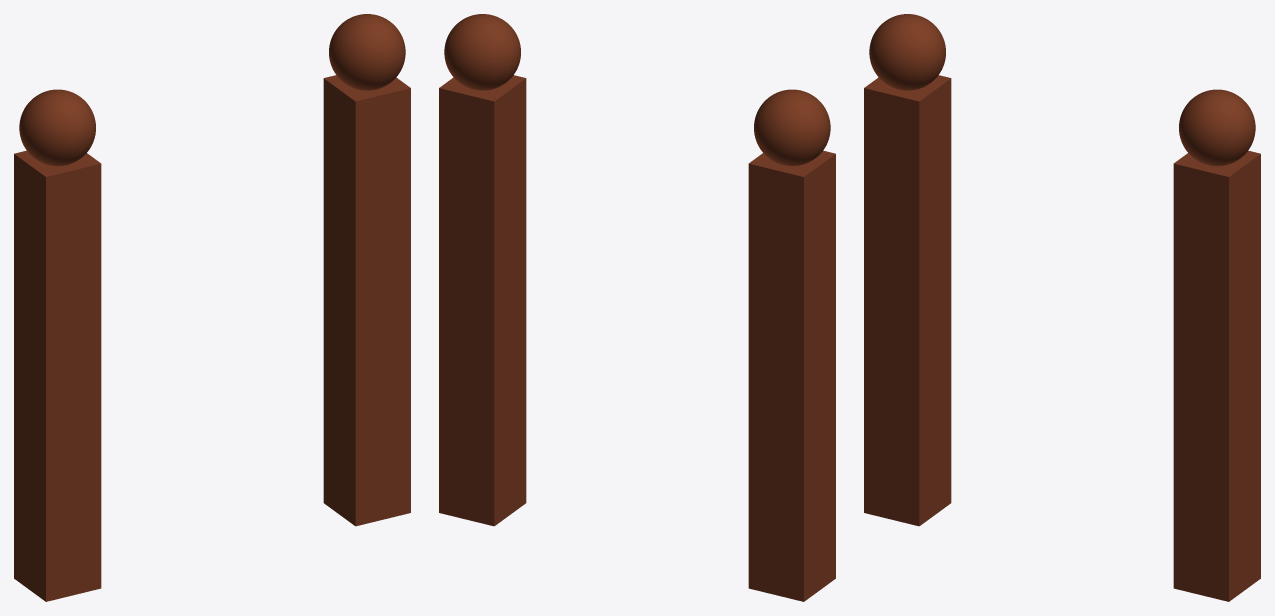
File: Gate.fbx
The picture shows the model from 3 angles, left to right: view 1: azimuth 30°, elevation 25°; view 2: azimuth 150°, elevation 25°; view 3: azimuth 330°, elevation 25°; orthographic projection.
Visible parts, largest first — view 1: Cube.001; view 2: Cube.001; view 3: Cube.001.
Part boxes in pixels (x1=…): Cube.001: x1=14, y1=14, x2=410, y2=601; Cube.001: x1=439, y1=14, x2=835, y2=601; Cube.001: x1=864, y1=14, x2=1260, y2=601.
Bounding box in the file's own units: 407 × 508 × 72.
